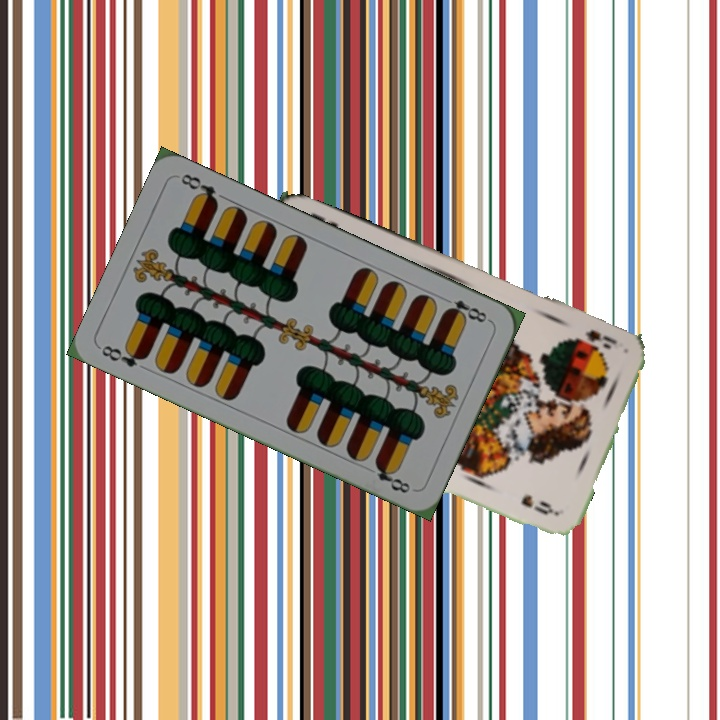E8: (438, 293, 493, 325), (97, 341, 150, 370)
SO: (581, 326, 620, 352)
